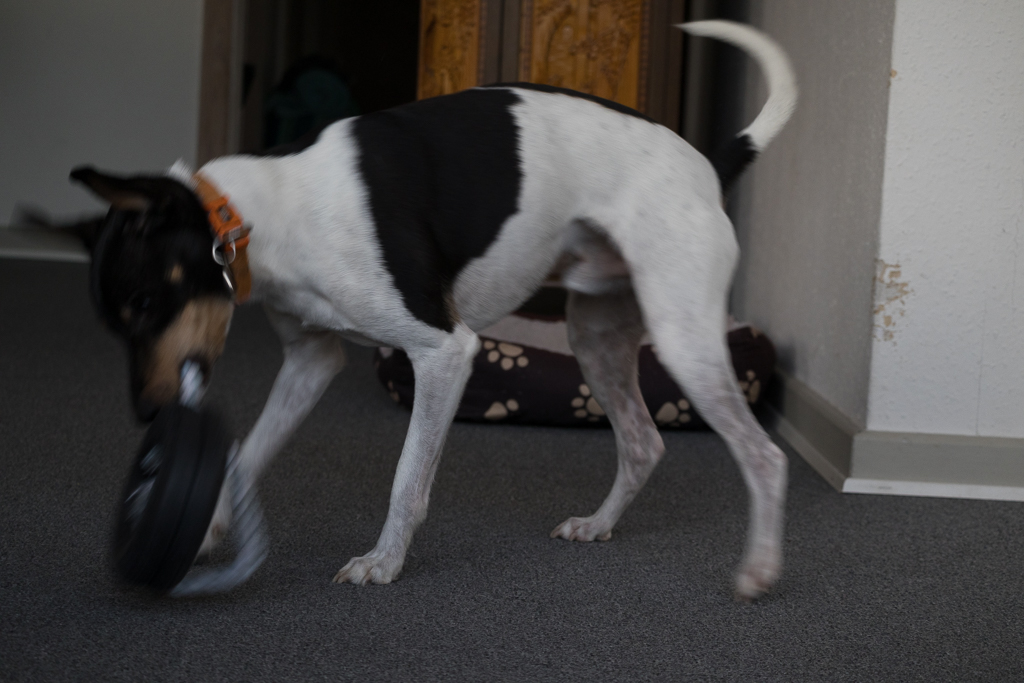Dog: (6, 12, 813, 606)
